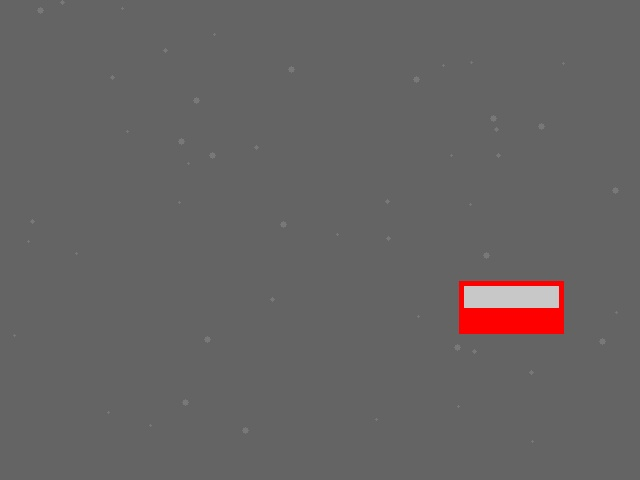car: (459, 281, 563, 333)
